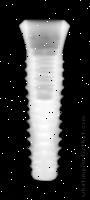Cowellmedi: (8, 17, 70, 183)
